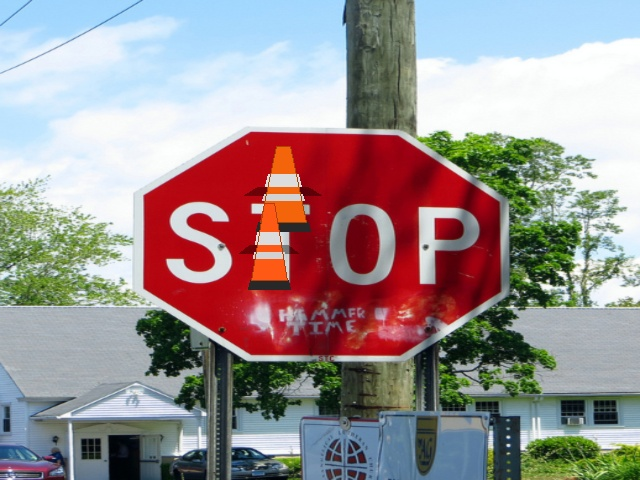traffic-cone: (256, 146, 310, 231), (248, 203, 290, 289)
